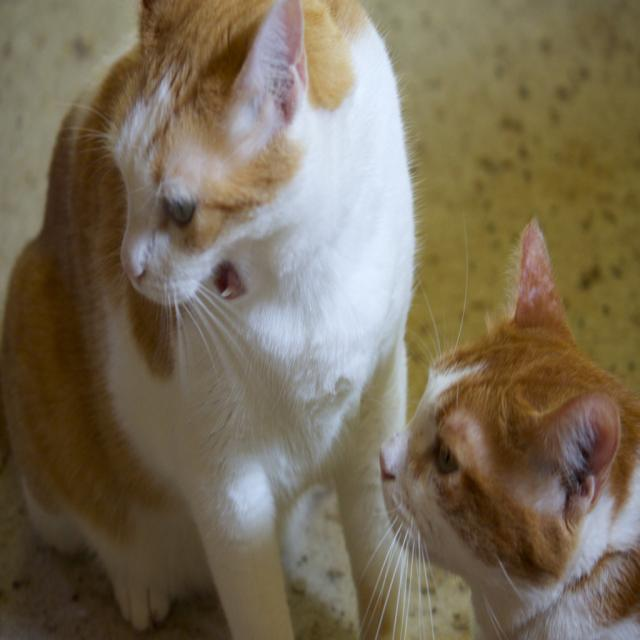Cat: (0, 0, 427, 639), (355, 213, 639, 639)
